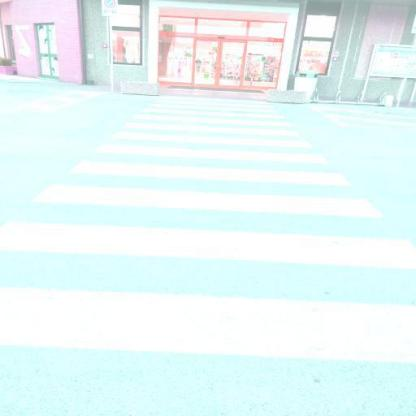crosswalk: (21, 158, 390, 222), (113, 113, 308, 138)
